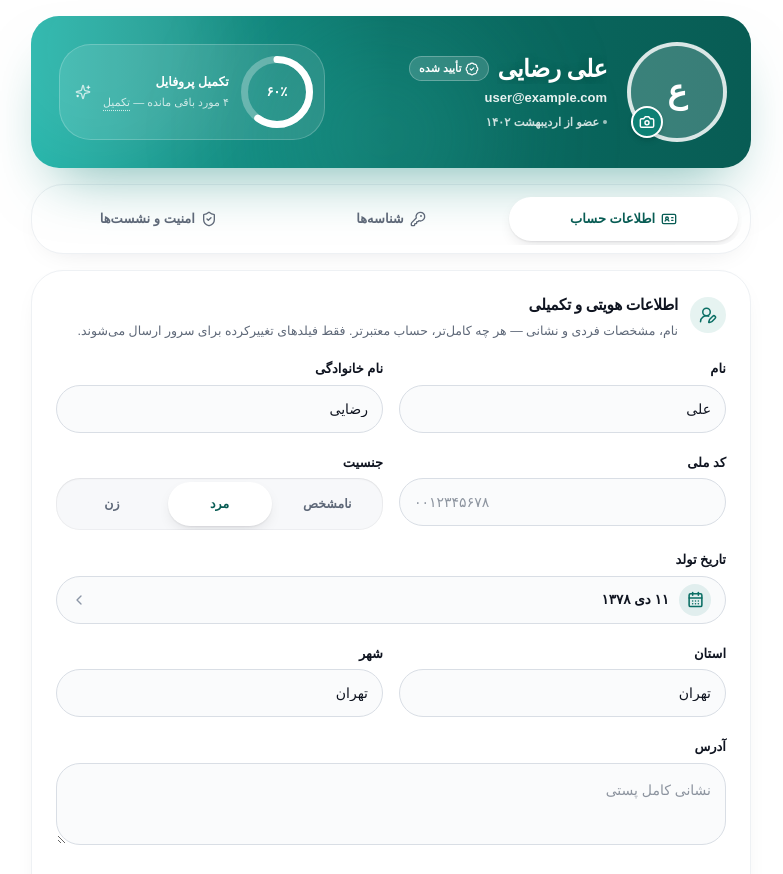
Test: شناسه‌های ورود › نشان «شناسه اصلی» فقط روی کانالِ primary می‌نشیند و هر دو کانال تأییدشده‌اند
The width and height of the screenshot is (783, 874).
expect the heading "علی رضایی" is shown: met, box [498, 53, 607, 84]
Click the tab "شناسه‌ها" at (391, 219), box [277, 197, 505, 241]
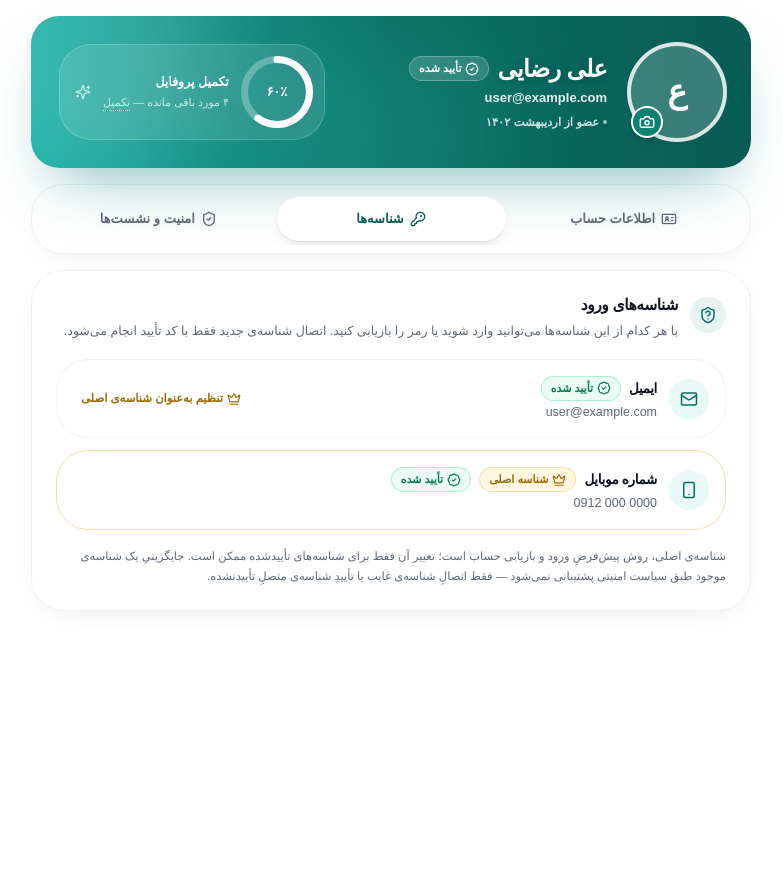
expect the text "شناسه اصلی" is shown once: met, box [479, 467, 576, 492]
expect the text "تأیید شده" is shown 2 times: met, box [541, 376, 621, 401]; [391, 467, 471, 492]
expect the number of buttons "تنظیم به‌عنوان شناسه‌ی اصلی" is 1: met, box [73, 386, 249, 411]
